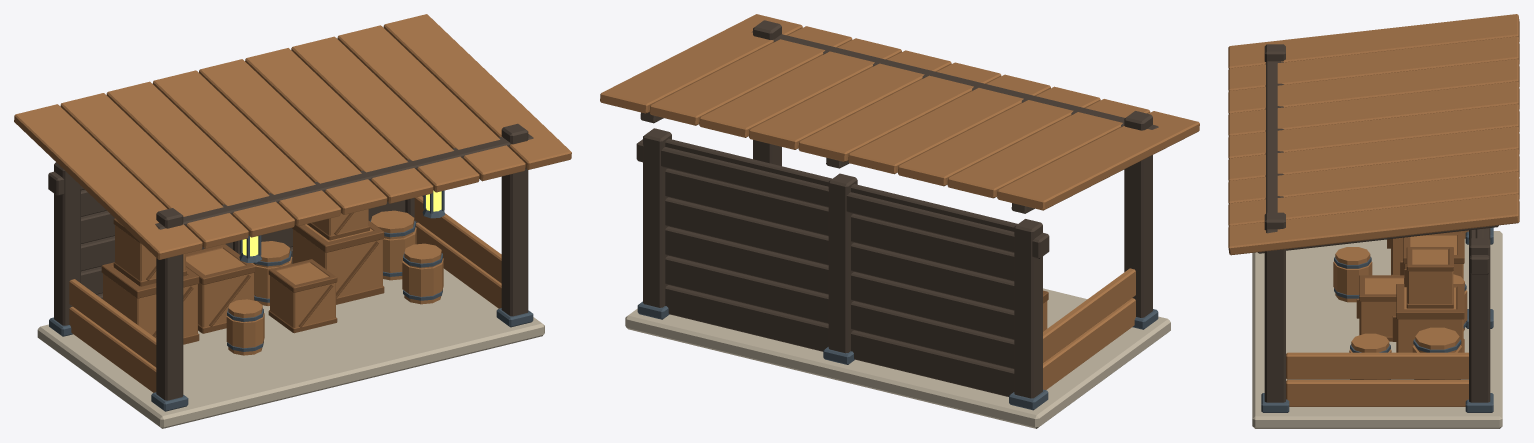
Rendered from Storage_Nook.fbx.
3 renders of one model, left to right at view 1: azimuth 30°, elevation 25°; view 2: azimuth 150°, elevation 25°; view 3: azimuth 270°, elevation 25°, orthographic. The views are drawn at different scales.
Parts seen in each view (by area): view 1: Wood, Concrete, Timber, WoodDark, Frame; view 2: Timber, Wood, Concrete, Frame; view 3: Wood, Concrete, Timber, WoodDark, Frame.
Boxes of the visible parts, x1=… form: Wood: x1=14, y1=14, x2=571, y2=392; Concrete: x1=37, y1=268, x2=544, y2=428; Timber: x1=48, y1=123, x2=533, y2=400; WoodDark: x1=101, y1=212, x2=384, y2=344; Frame: x1=49, y1=190, x2=533, y2=411; Timber: x1=636, y1=20, x2=1158, y2=398; Wood: x1=600, y1=14, x2=1199, y2=389; Concrete: x1=625, y1=288, x2=1170, y2=428; Frame: x1=637, y1=301, x2=1158, y2=410; Wood: x1=1228, y1=14, x2=1519, y2=406; Concrete: x1=1252, y1=231, x2=1502, y2=428; Timber: x1=1258, y1=44, x2=1498, y2=402; WoodDark: x1=1356, y1=232, x2=1464, y2=352; Frame: x1=1261, y1=227, x2=1493, y2=412.
Bounding box in the file's own units: 13.54 × 6.96 × 8.26.
